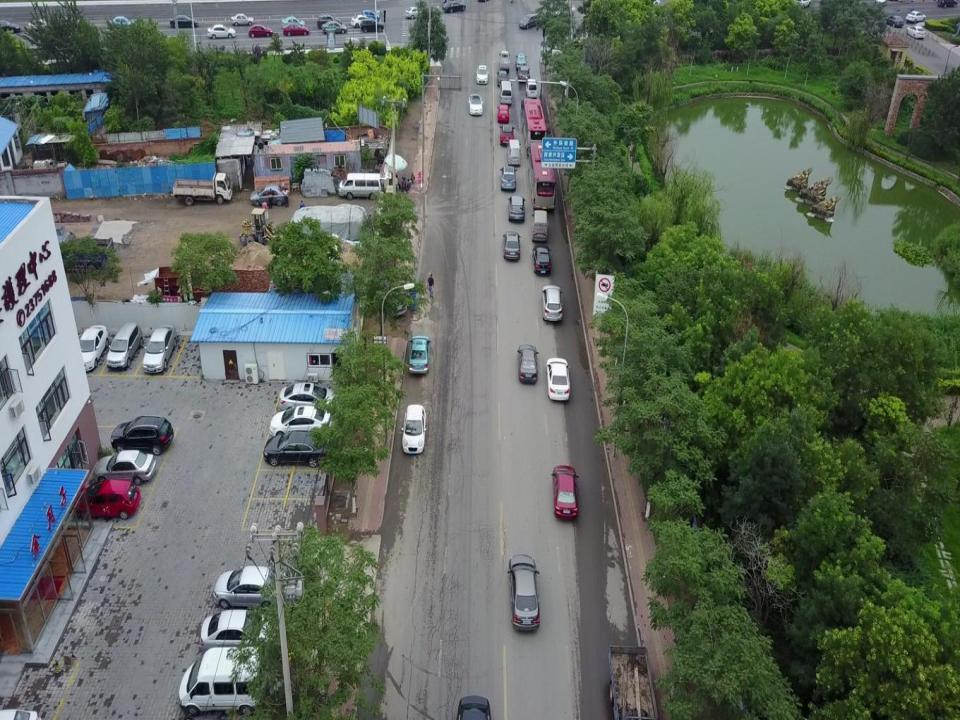bus: (527, 141, 556, 215), (520, 96, 548, 152)
car: (199, 610, 283, 657), (212, 566, 296, 610), (74, 479, 141, 520), (262, 430, 334, 468), (110, 415, 175, 456), (507, 554, 541, 632), (277, 382, 344, 419), (93, 448, 157, 486), (269, 404, 336, 440), (140, 324, 178, 374), (76, 324, 110, 374), (550, 464, 578, 520), (401, 403, 427, 455), (545, 356, 571, 403), (517, 343, 540, 385), (408, 334, 431, 376), (541, 284, 564, 323), (250, 183, 288, 206), (532, 244, 552, 276), (503, 231, 521, 262), (507, 196, 526, 223), (27, 18, 58, 34), (499, 165, 517, 192), (518, 12, 545, 30), (207, 24, 236, 38), (170, 14, 198, 28), (468, 93, 484, 117), (499, 123, 515, 147), (282, 22, 309, 36), (316, 14, 342, 28), (108, 15, 136, 28), (360, 18, 384, 33), (282, 14, 306, 29), (321, 21, 347, 34), (248, 23, 273, 36), (351, 14, 373, 28), (496, 104, 511, 124), (441, 1, 466, 13), (230, 14, 255, 26), (0, 19, 20, 34), (404, 6, 428, 18), (476, 64, 489, 85), (495, 70, 509, 88), (517, 65, 531, 83), (515, 52, 527, 70)
truck: (605, 643, 660, 720), (172, 171, 233, 206), (352, 9, 380, 23), (498, 50, 510, 73)
van: (177, 647, 268, 715), (106, 322, 143, 371), (378, 269, 406, 317), (338, 173, 382, 200), (531, 208, 548, 245), (506, 139, 522, 168), (499, 80, 513, 106), (525, 78, 538, 100)
